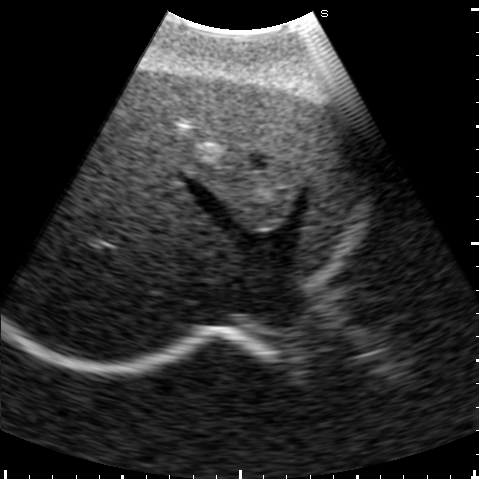S2: (297, 113, 358, 273)
S4: (130, 79, 313, 231)
S7: (46, 241, 186, 360)
S8: (72, 140, 234, 281)
Tumor: (197, 141, 223, 160), (176, 117, 192, 129)
